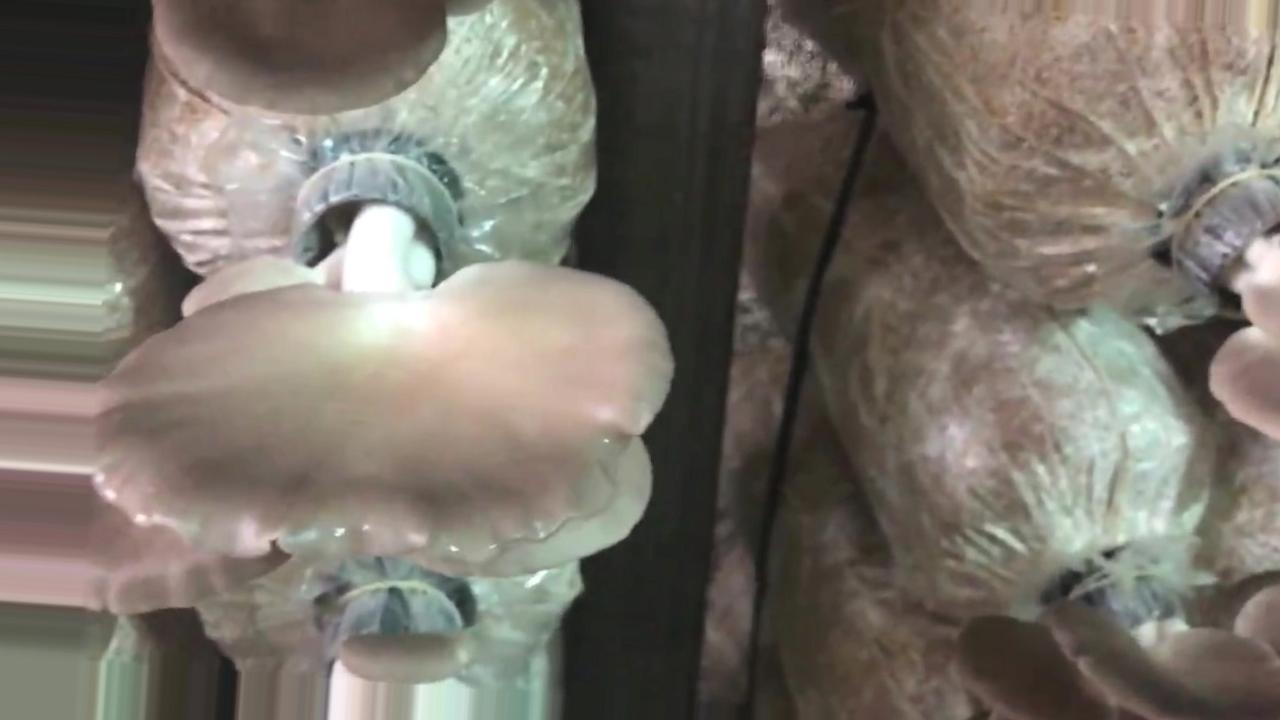nam: (86, 153, 681, 587), (149, 1, 496, 123), (1193, 160, 1280, 438)
